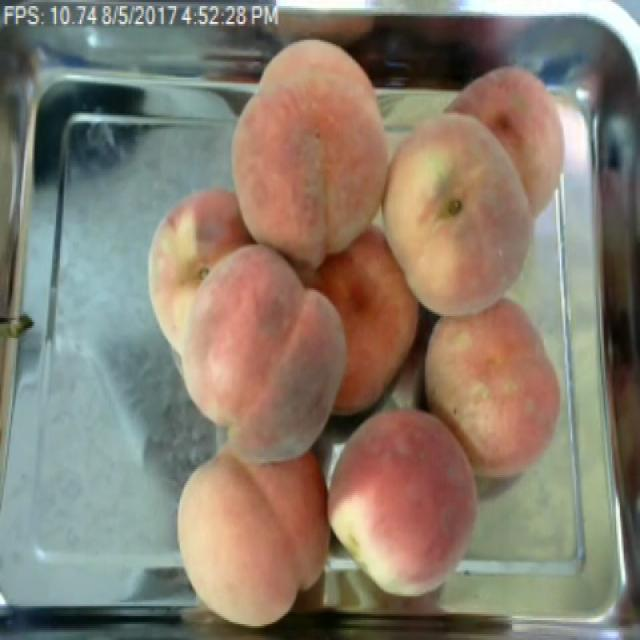Fruit: (364, 68, 577, 332), (133, 235, 359, 467), (221, 26, 407, 278), (316, 398, 491, 610), (165, 437, 344, 638), (420, 290, 579, 487)
